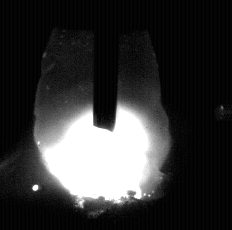arame: (94, 0, 118, 131)
poca: (32, 0, 172, 230)
